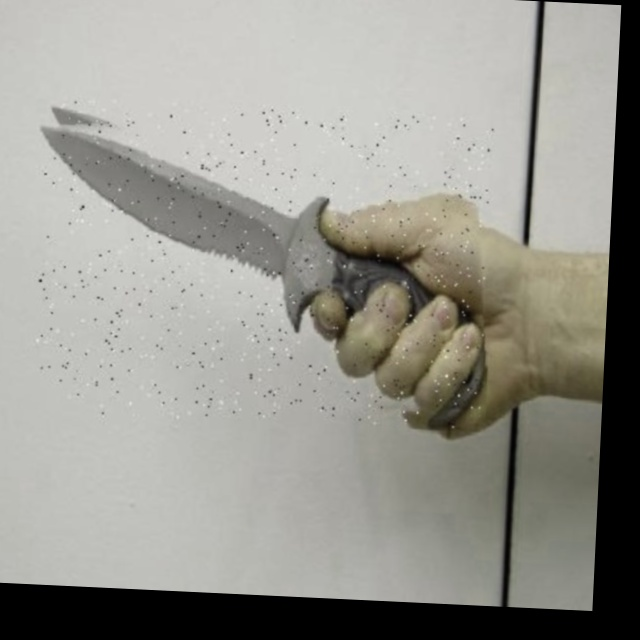Sharp-Object: (33, 97, 494, 432)
